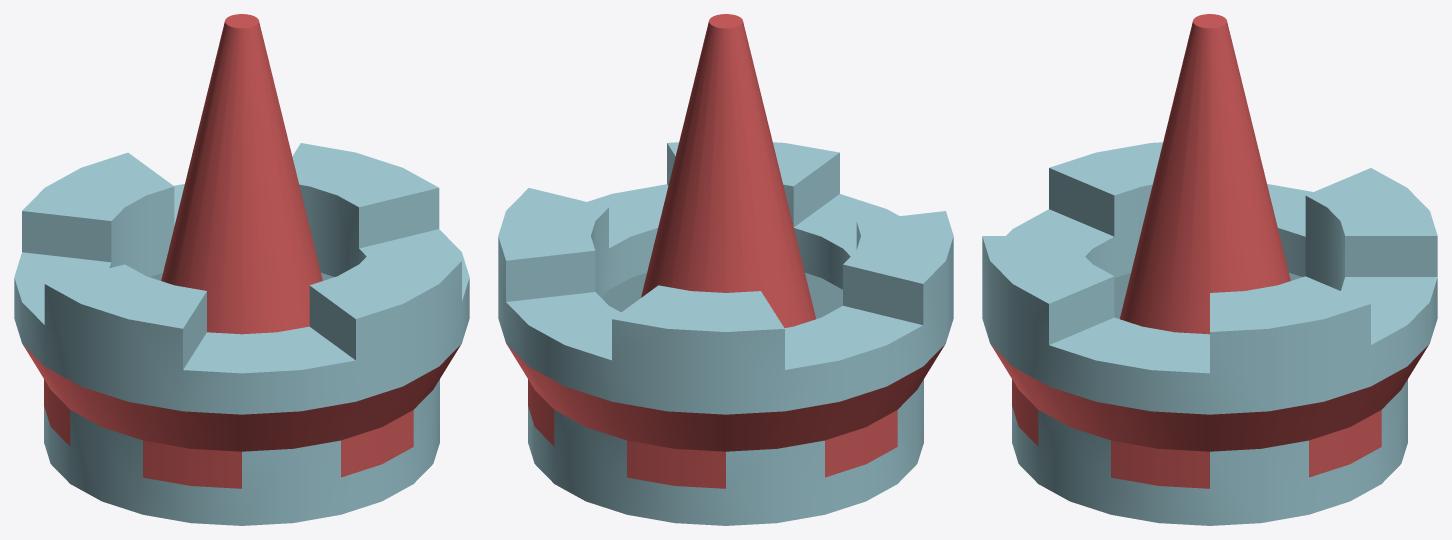
File: towerround_roofc.fbx
3 views of the same model, side by side, from view 1: azimuth 30°, elevation 25°; view 2: azimuth 150°, elevation 25°; view 3: azimuth 270°, elevation 25° (orthographic).
Visible parts, largest first — view 1: towerRound_roofC; view 2: towerRound_roofC; view 3: towerRound_roofC.
Part boxes in pixels (left/top/right/bottom): towerRound_roofC: left=14, top=14, right=469, bottom=525; towerRound_roofC: left=498, top=14, right=953, bottom=525; towerRound_roofC: left=982, top=14, right=1437, bottom=525.
Bounding box in the file's own units: 10 × 10.2 × 10.
